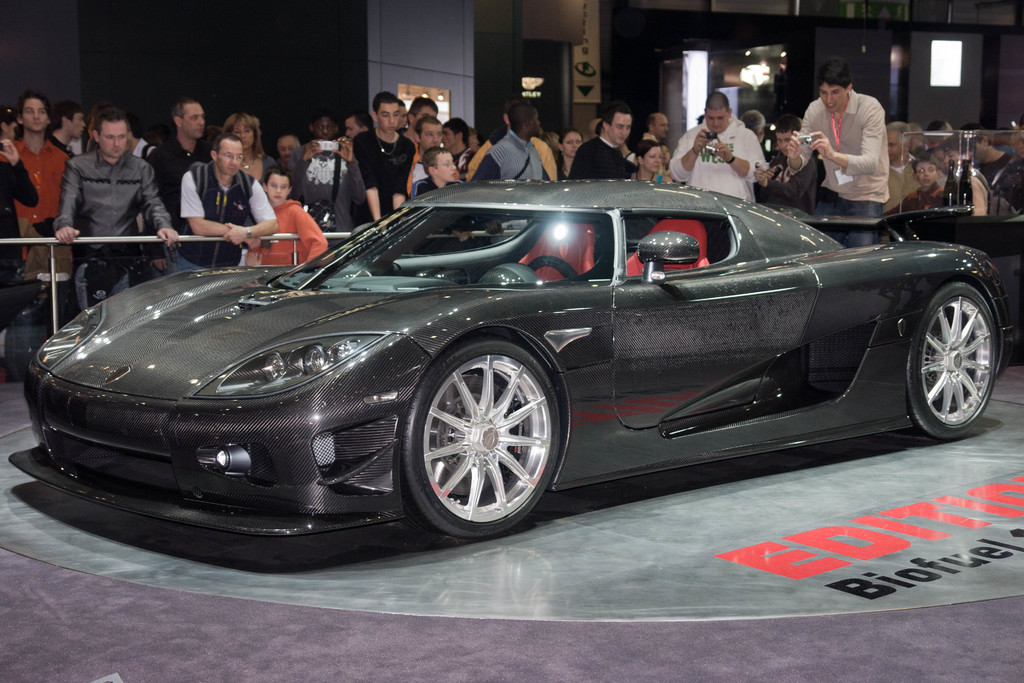person: (51, 105, 181, 322)
